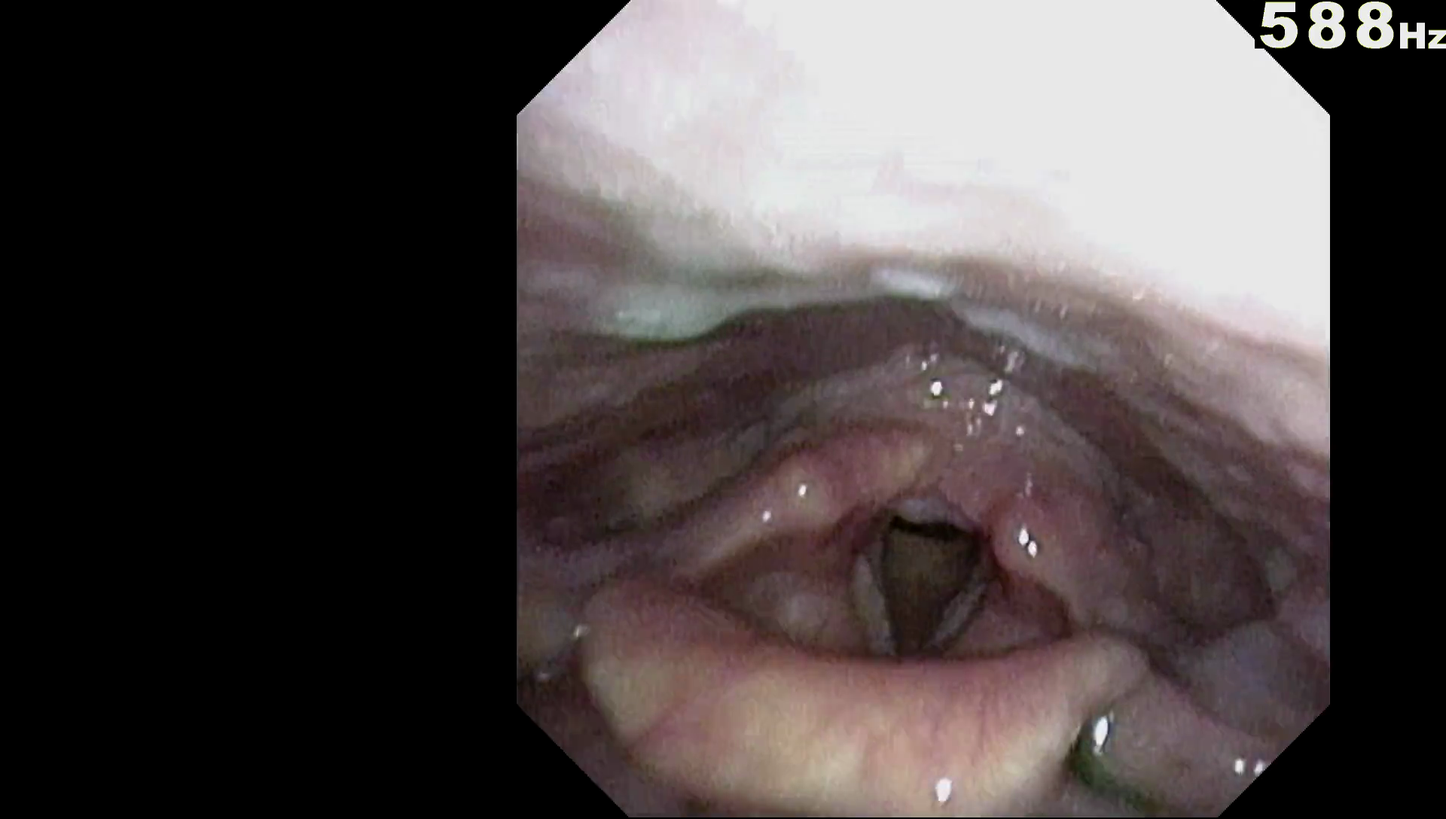trachea: (837, 485, 1014, 674)
